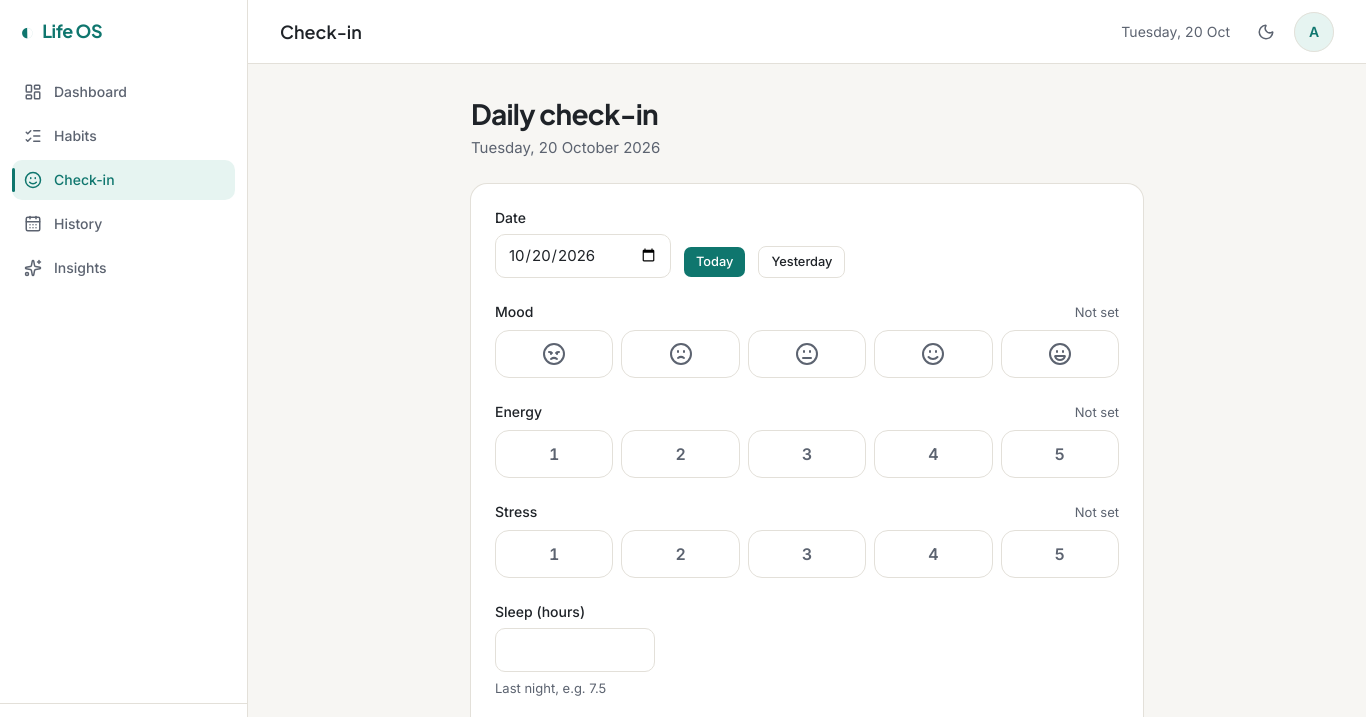
Test: CheckInPage › shows a form-level server error (field "")
Step 1. Click the button named "Mood 4: Good" → (933, 354), box [874, 330, 993, 378]
(page scrolled)
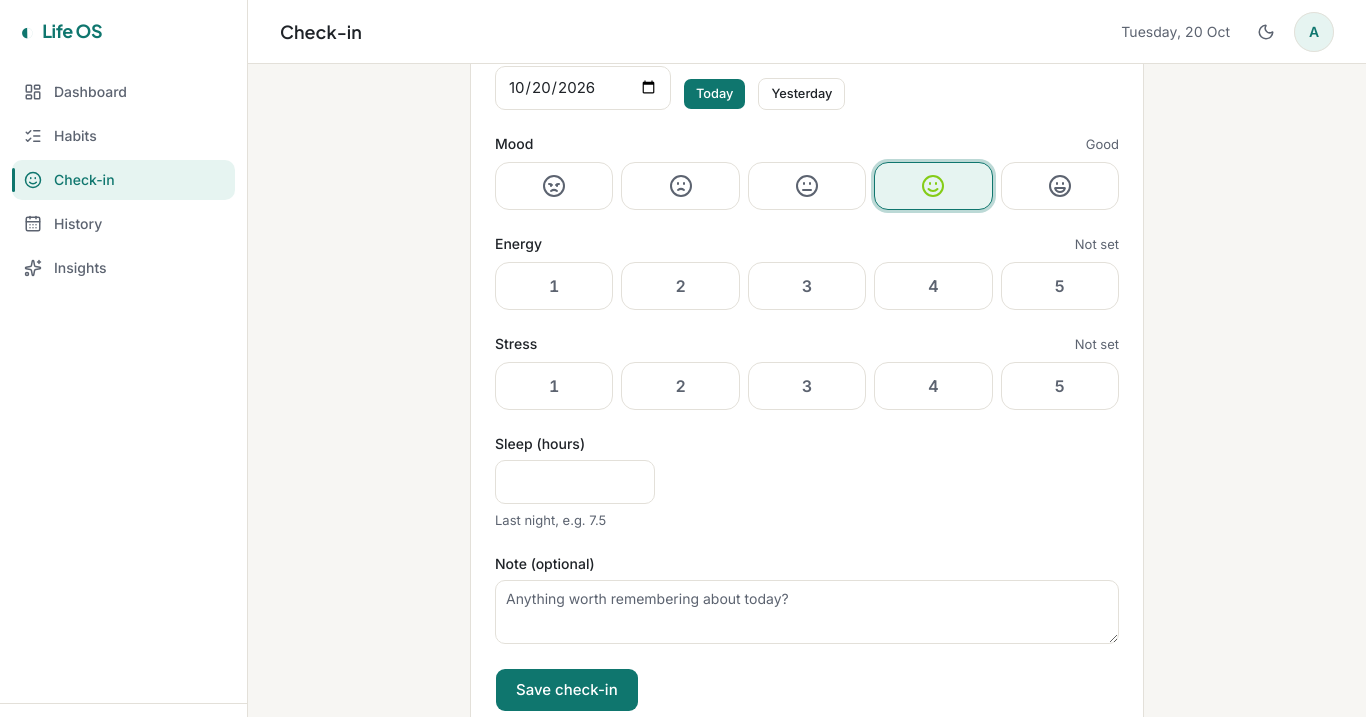
Step 2. Click the button "Save check-in" → (567, 690), box [495, 668, 639, 712]
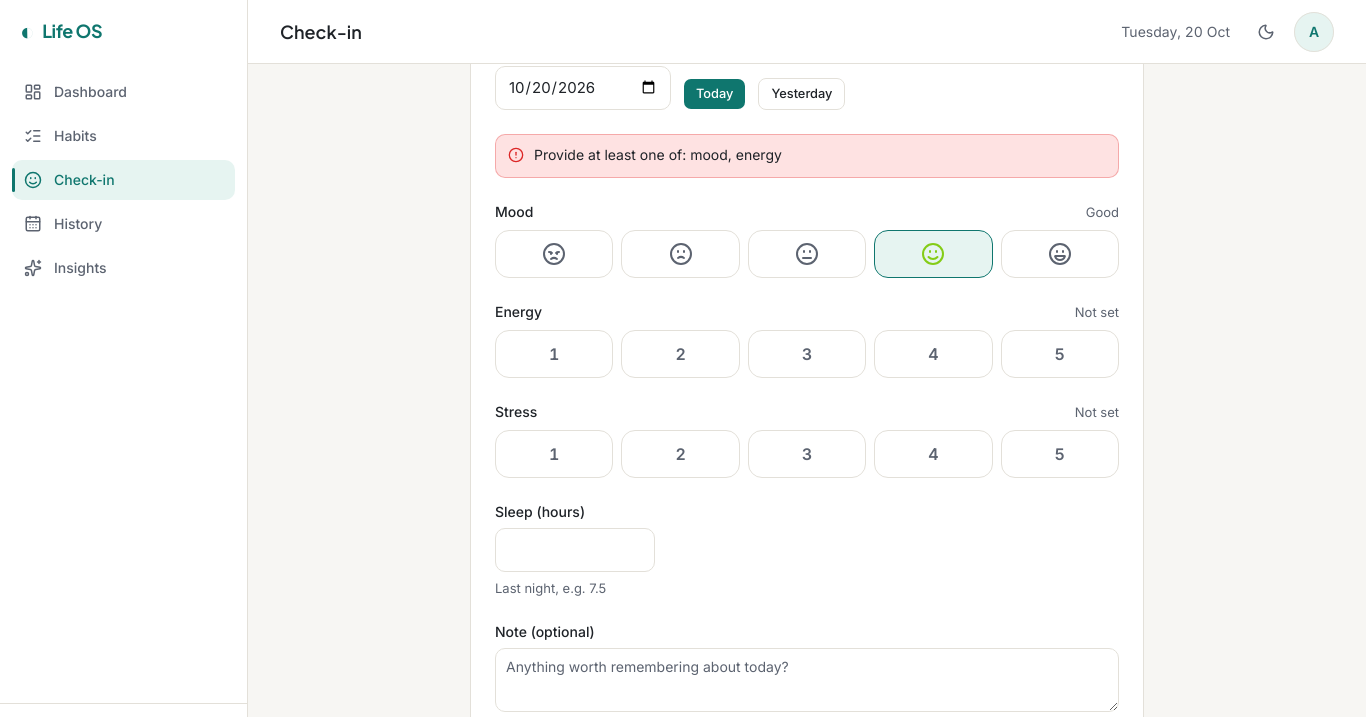
Expected: the message reads "Provide at least one of: mood, energy", [534, 146, 782, 163]
